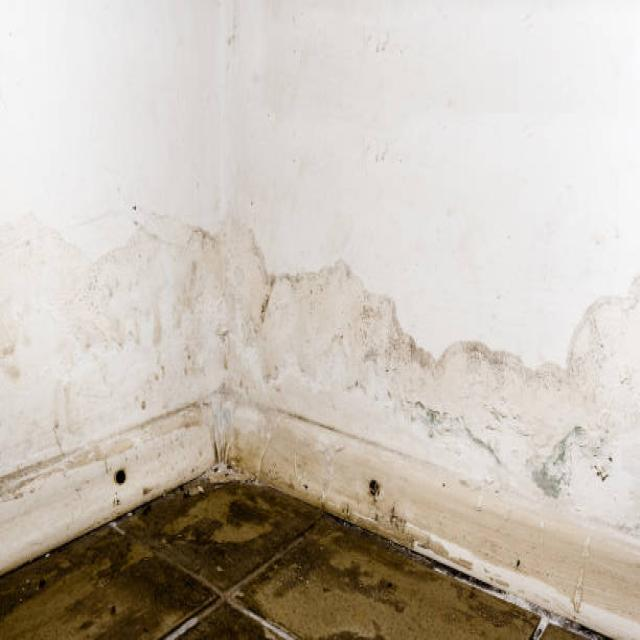stain_mould: (0, 215, 637, 536)
